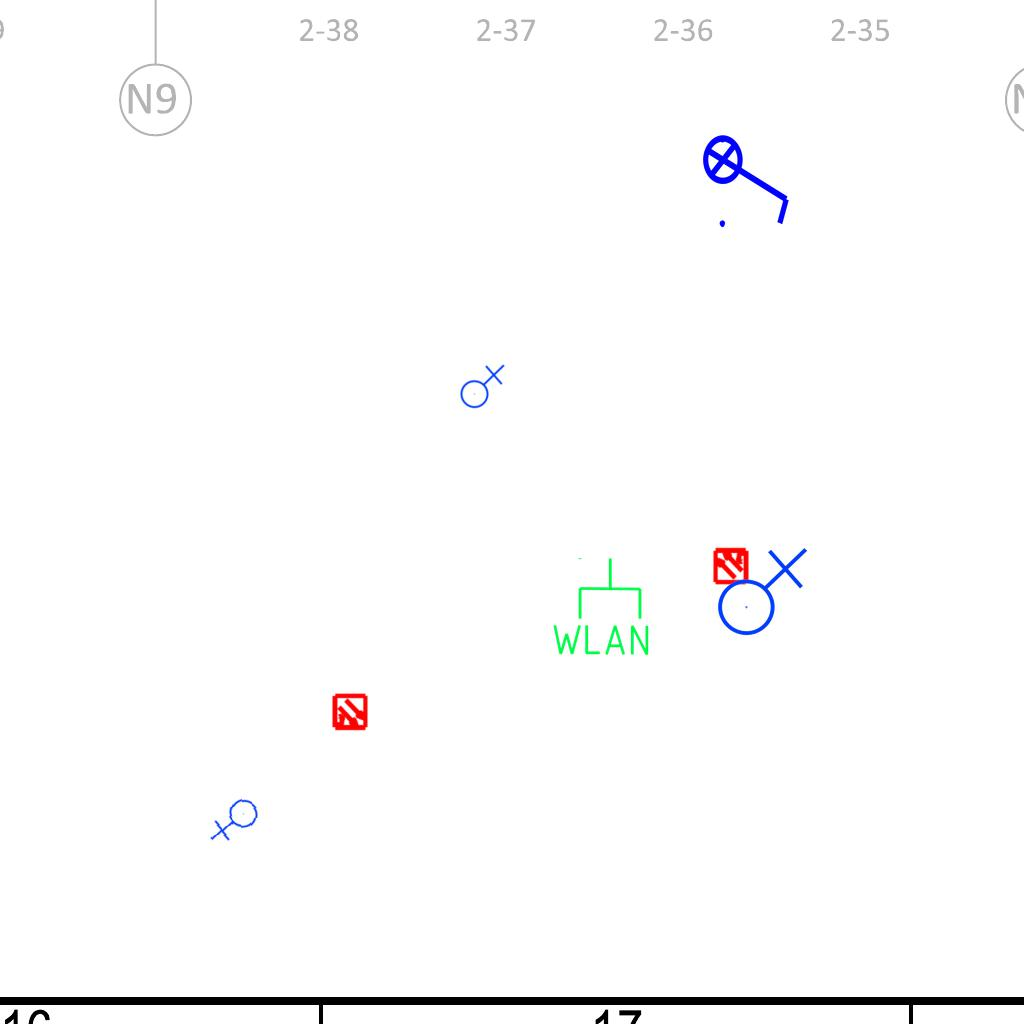Ausschalter_beleuchtet: (701, 121, 797, 233)
Elektroanschluss_allgemein_230V_Geraeteanschlussdose_230V: (709, 543, 808, 637), (209, 795, 264, 848), (456, 362, 505, 409)
OT_Multisensormelder_(Kombination_RMO_WMD): (703, 537, 759, 593), (322, 685, 378, 741)
WLAN: (548, 555, 653, 659)
